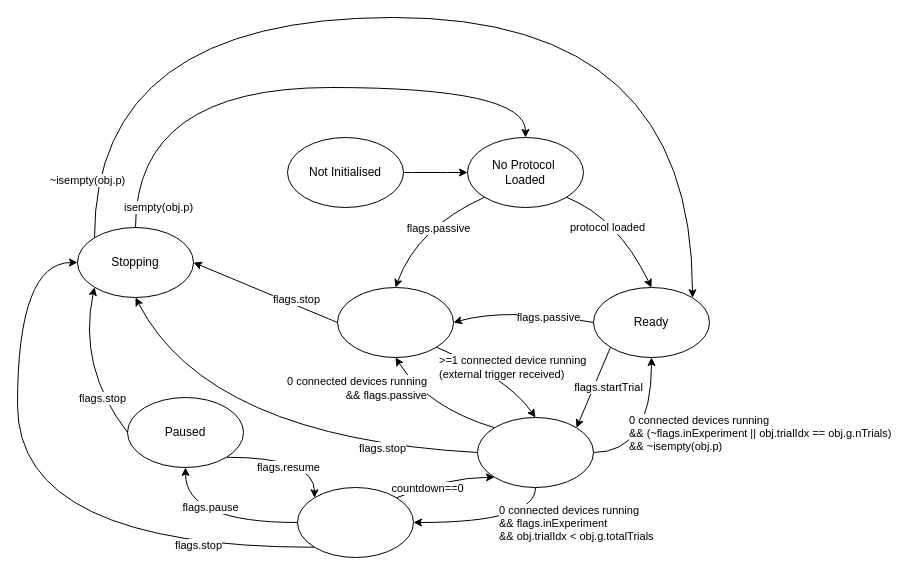
The diagram is 909 pixels wide and 575 high, and some of its shapes have lost their labels. Each missing label, with the centre of its shape:
Awaiting Trigger: point 395,322
Inter-Trial: point 355,522
Running: point 535,452
